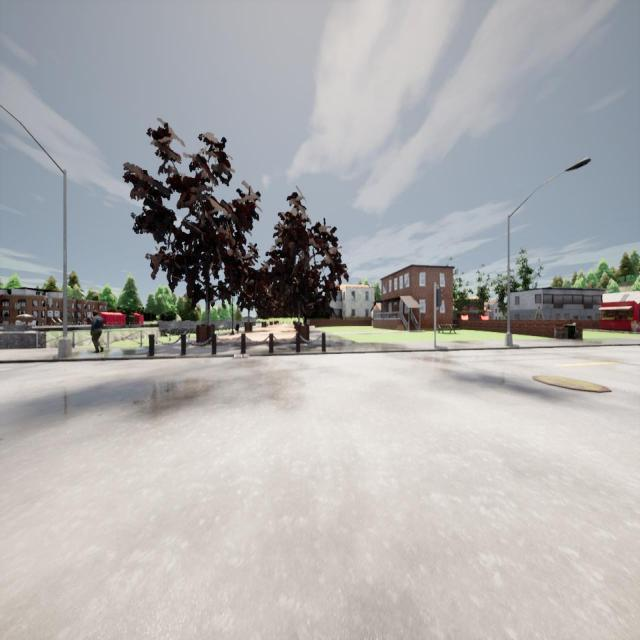Pedestrian: (91, 311, 103, 353)
traffic_light: (437, 289, 441, 306)
